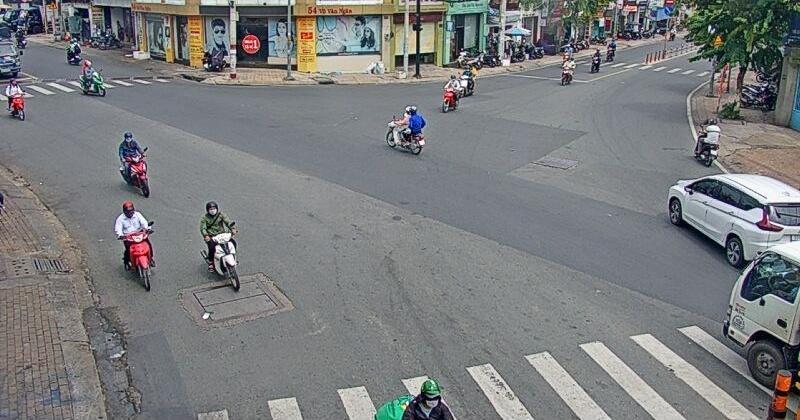xe hoi: (666, 173, 800, 267)
xe may: (114, 201, 154, 291), (200, 201, 240, 290), (116, 132, 150, 198), (385, 105, 426, 155), (694, 117, 721, 166), (4, 78, 25, 121), (442, 74, 460, 112), (459, 64, 476, 98)
